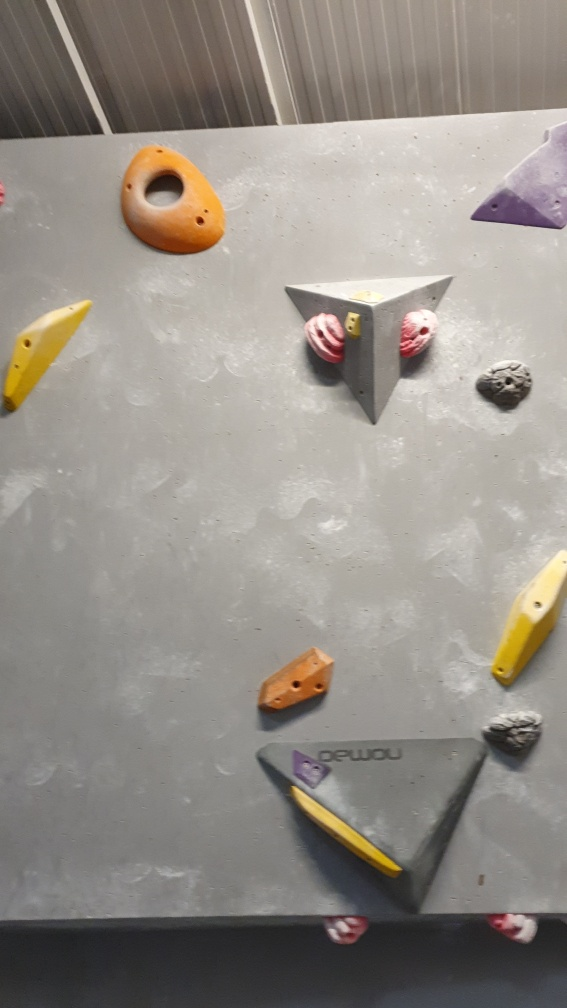Jug: (474, 356, 536, 415), (480, 703, 544, 758), (395, 305, 441, 363), (305, 309, 345, 373)
Pinch: (1, 297, 98, 416), (491, 556, 567, 690), (252, 642, 338, 715)
Pocket: (117, 144, 227, 257)
